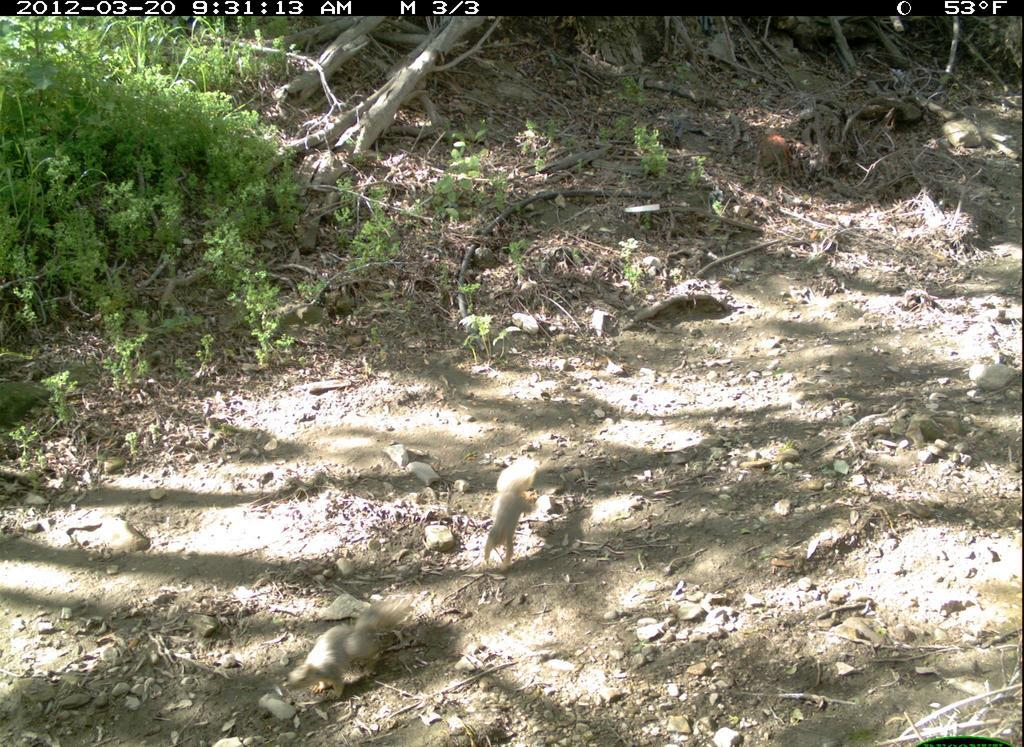squirrel: (413, 400, 611, 619)
